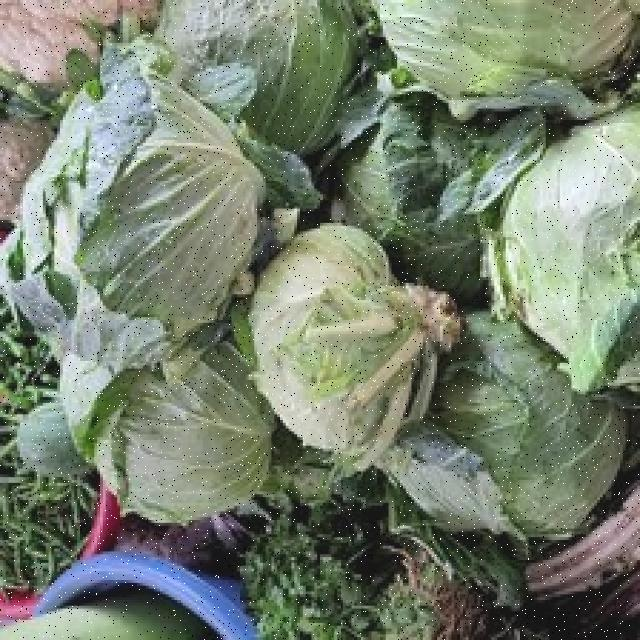Cabbage: (0, 20, 257, 390), (255, 215, 452, 455), (432, 299, 604, 570), (514, 99, 640, 391)
